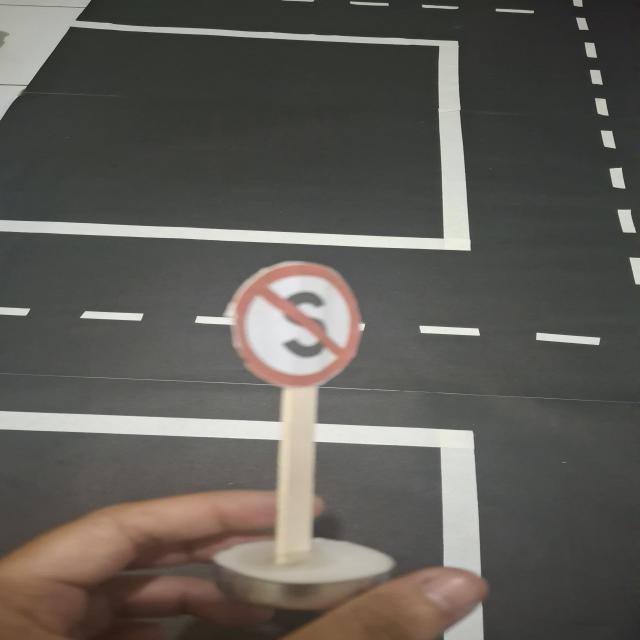Rambu Berhenti: (232, 261, 366, 388)
